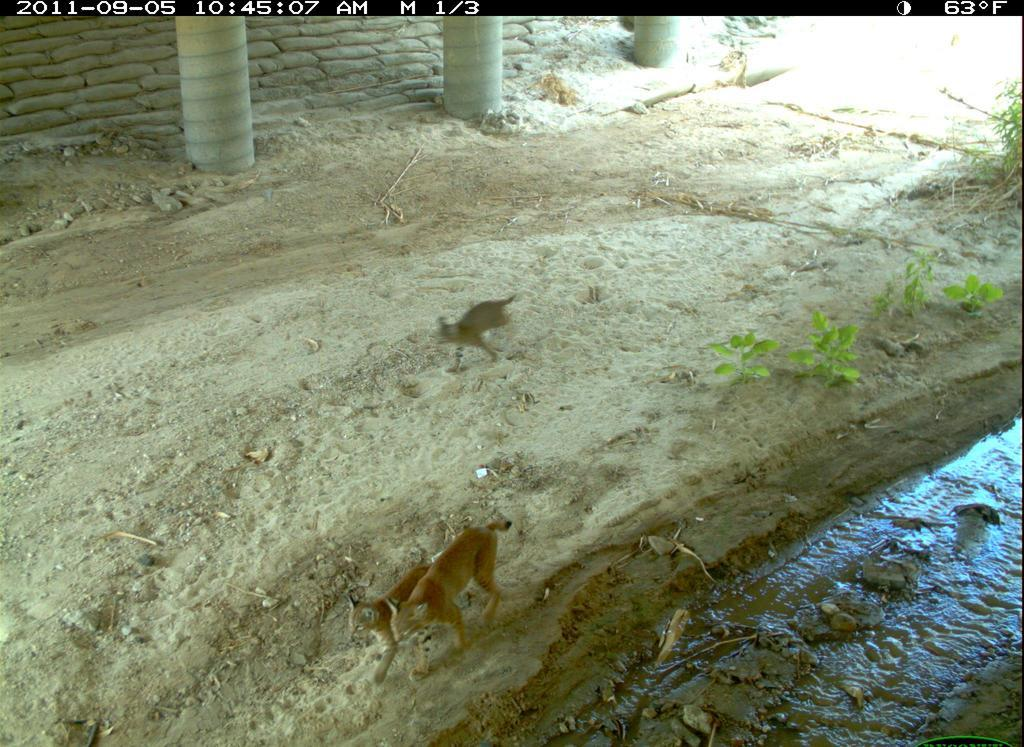bobcat: (401, 487, 510, 671), (341, 552, 435, 684), (414, 289, 528, 365)
